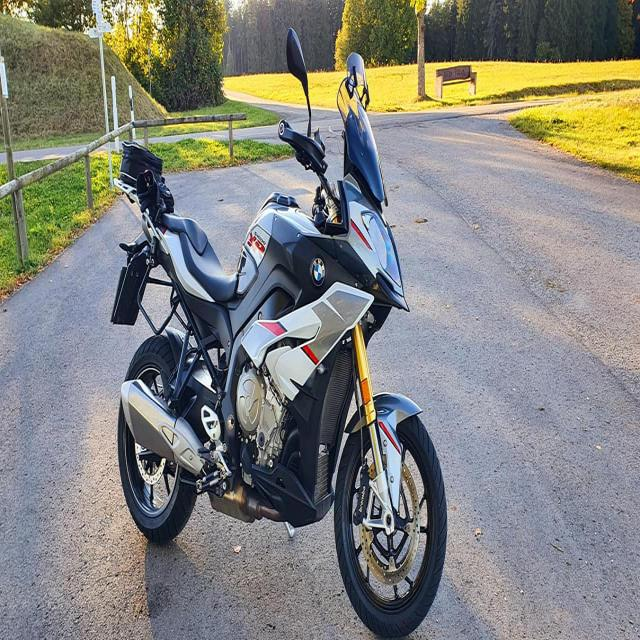Motorcycle: (110, 54, 448, 639)
